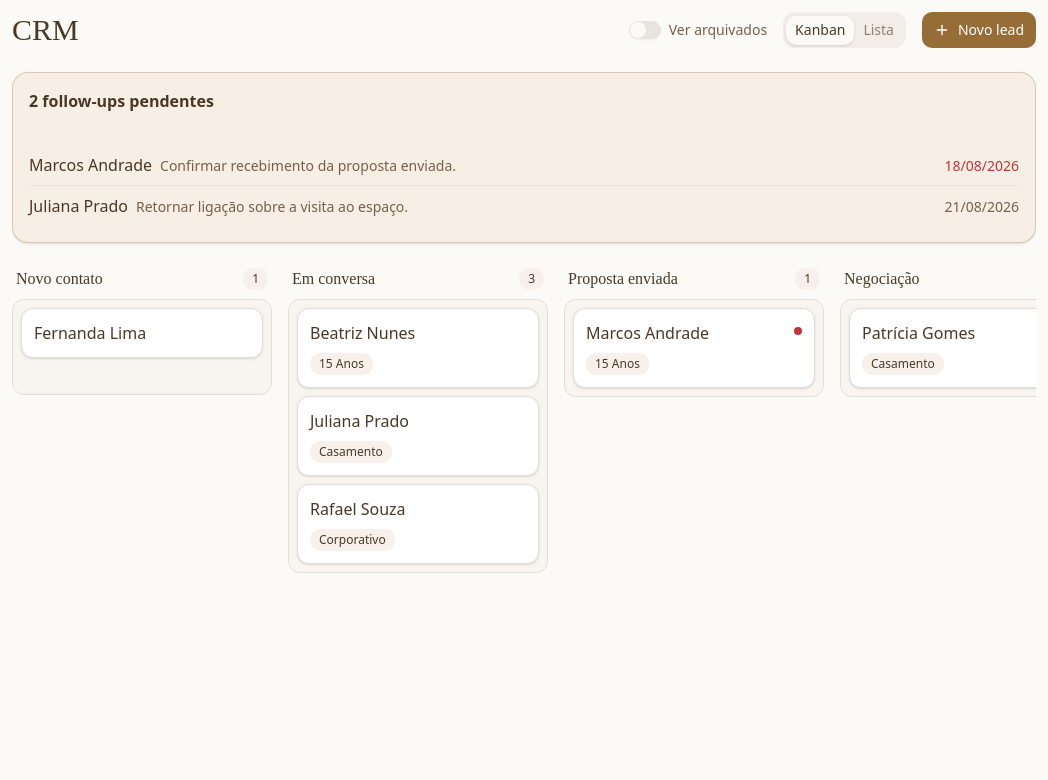
Test case: CrmPage — lista view › changing a lead's stage via the inline select moves it
The width and height of the screenshot is (1048, 780).
Click the tab "Lista": (879, 30) [854, 16, 903, 44]
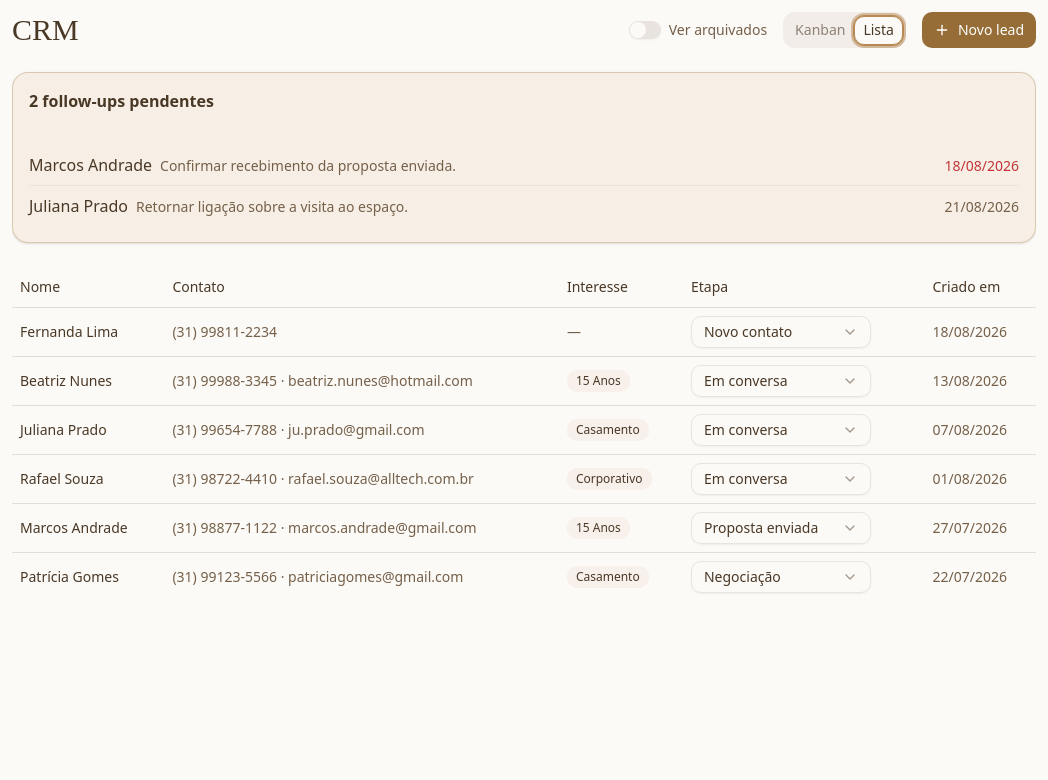
Click the dropdown named "Etapa de Fernanda Lima": (781, 332) [691, 316, 871, 348]
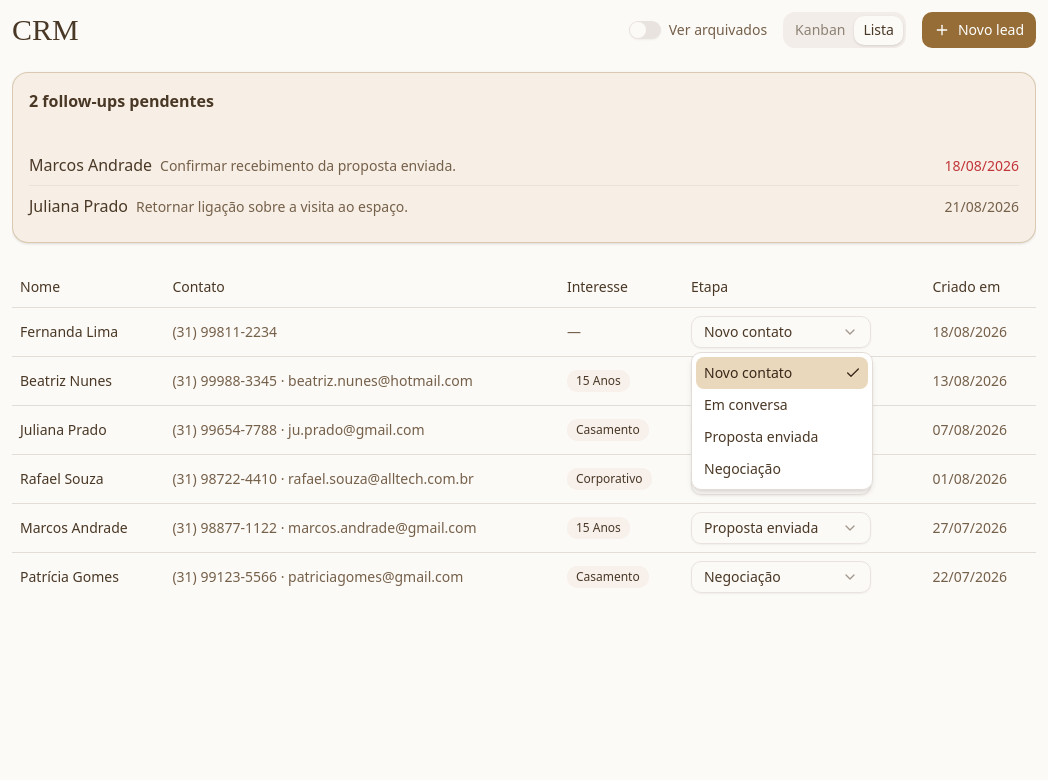
Click the option "Em conversa": (746, 404) [704, 395, 788, 414]
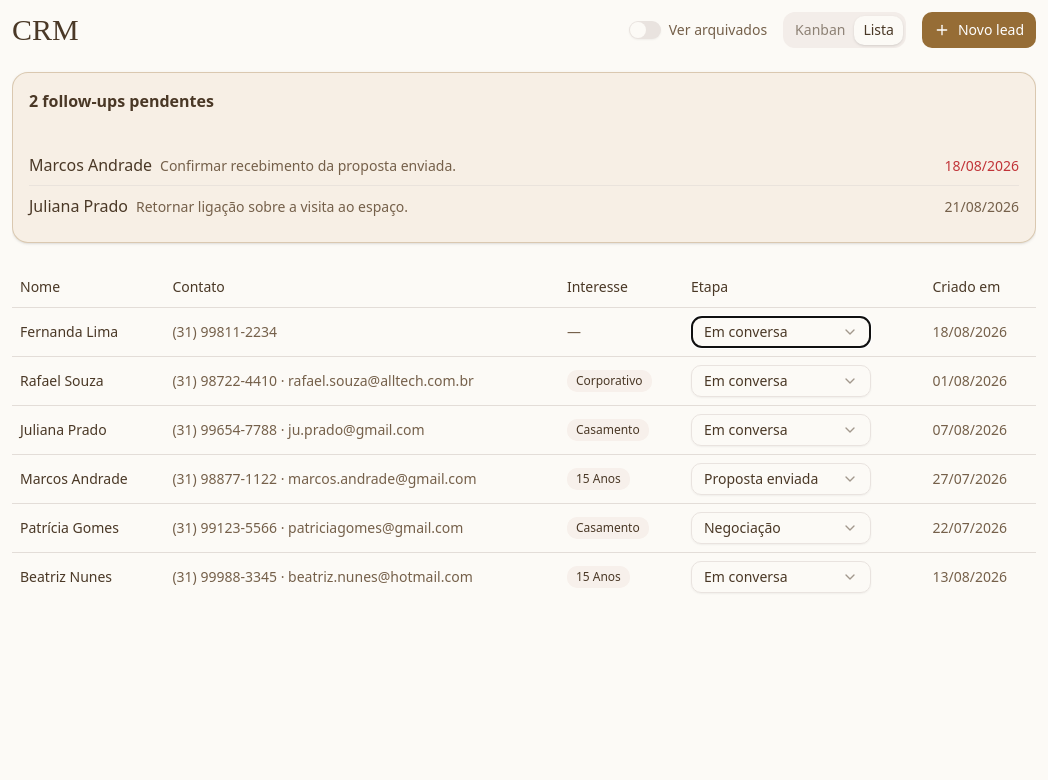
Expected: the dropdown named "Etapa de Fernanda Lima" reads "Em conversa", [691, 316, 871, 348]
